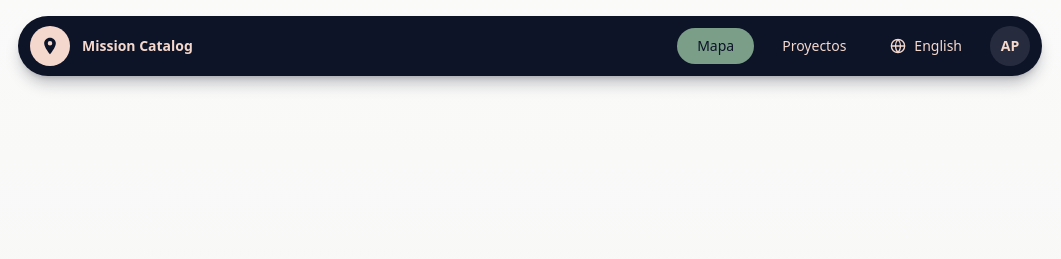
Navbar › session › shows the initials on the button and the name above the email
Click the button with aria-label "Menú de usuario de Ana Pérez": coordinates (1010, 46) [990,26,1030,66]
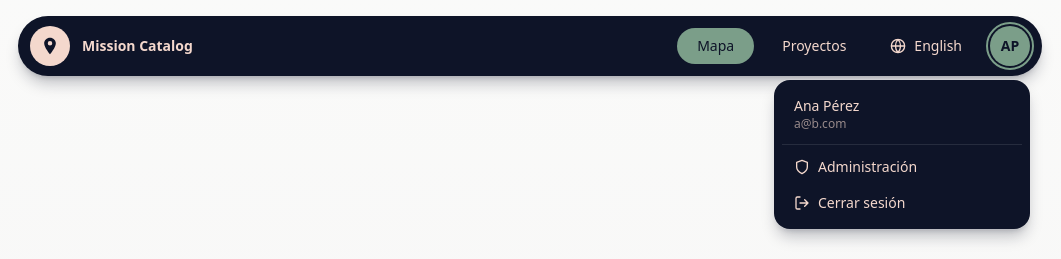
Check: the text "Ana Pérez" is shown, box [794,96,859,115]
Check: the text "a@b.com" is shown, box [794,115,846,132]
